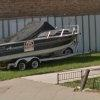Boat: (1, 17, 82, 71)
